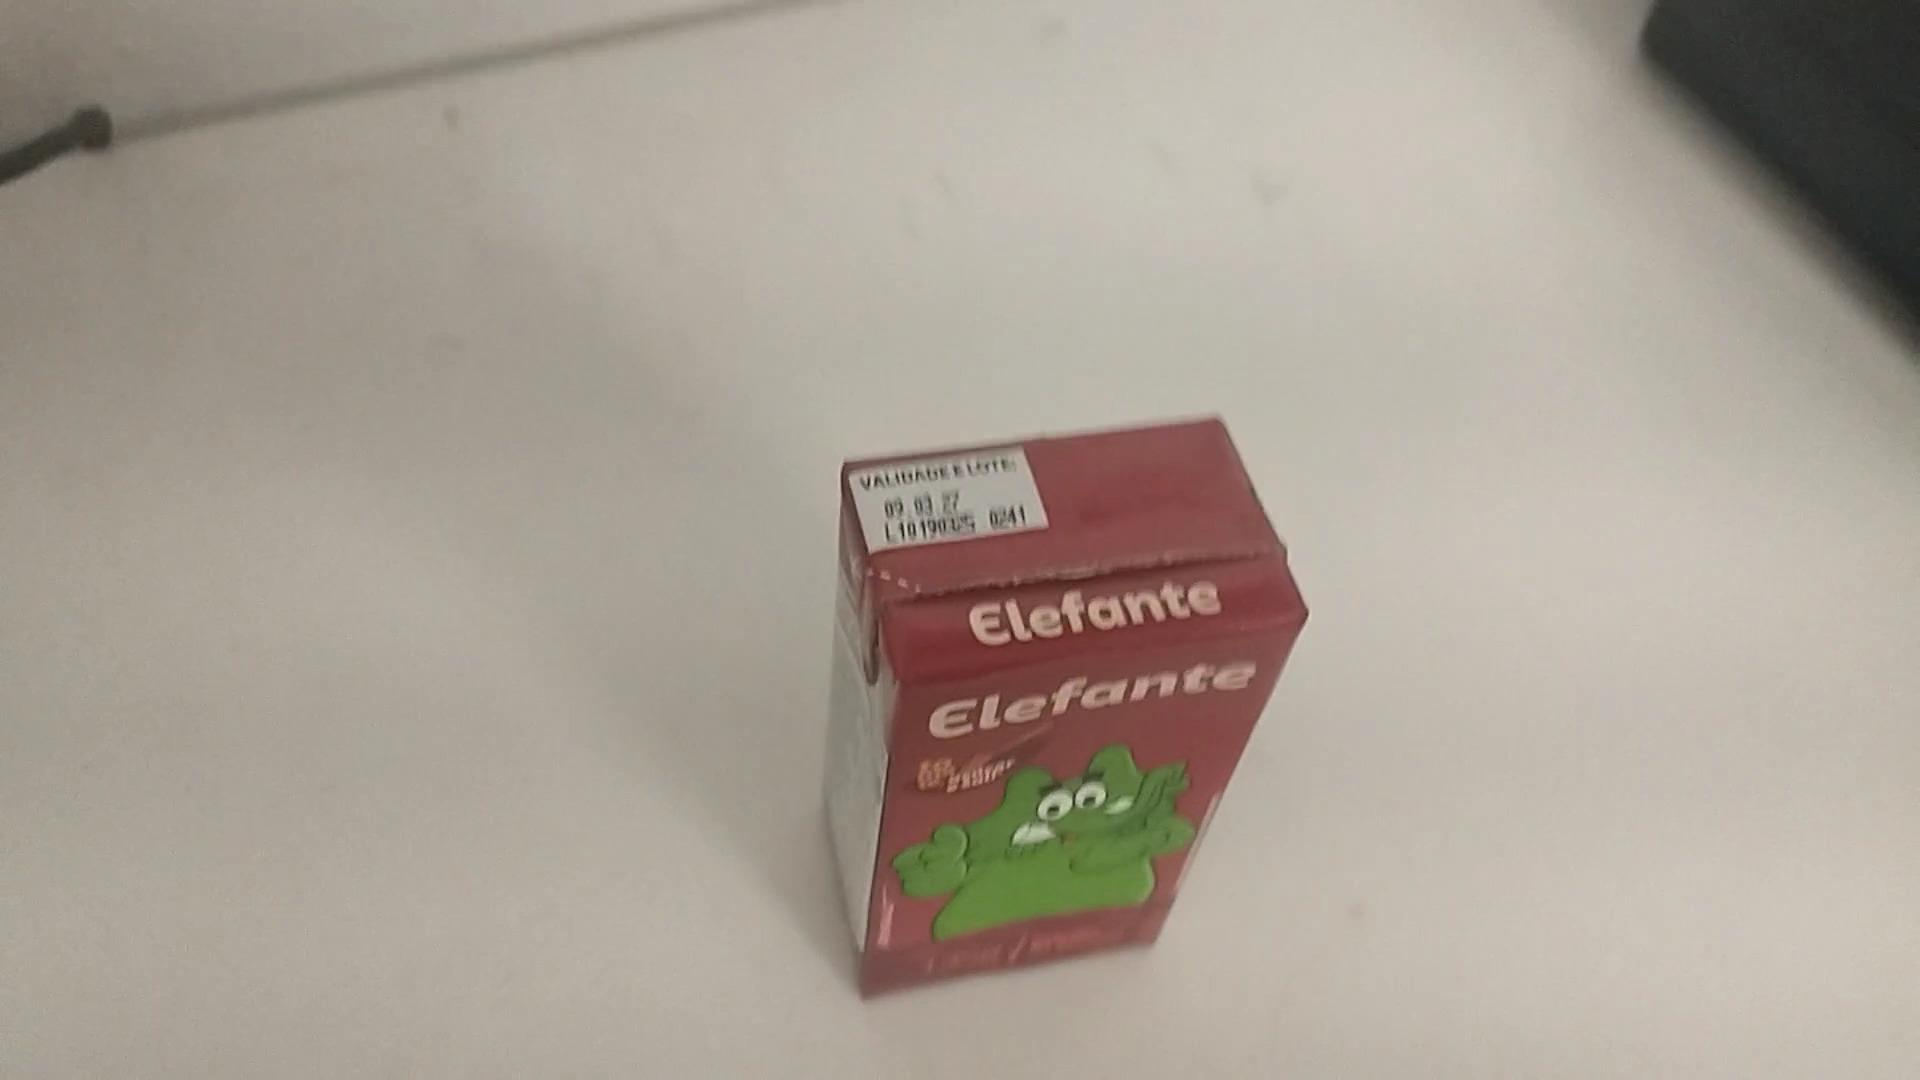tomate: (812, 398, 1312, 993)
